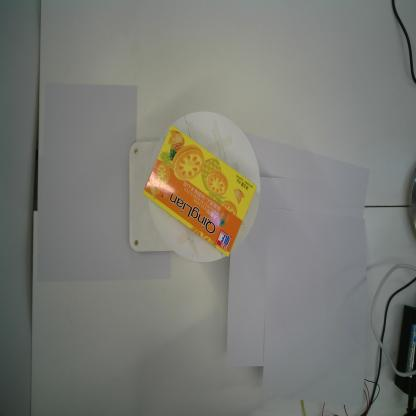Dessert: (142, 125, 257, 258)
